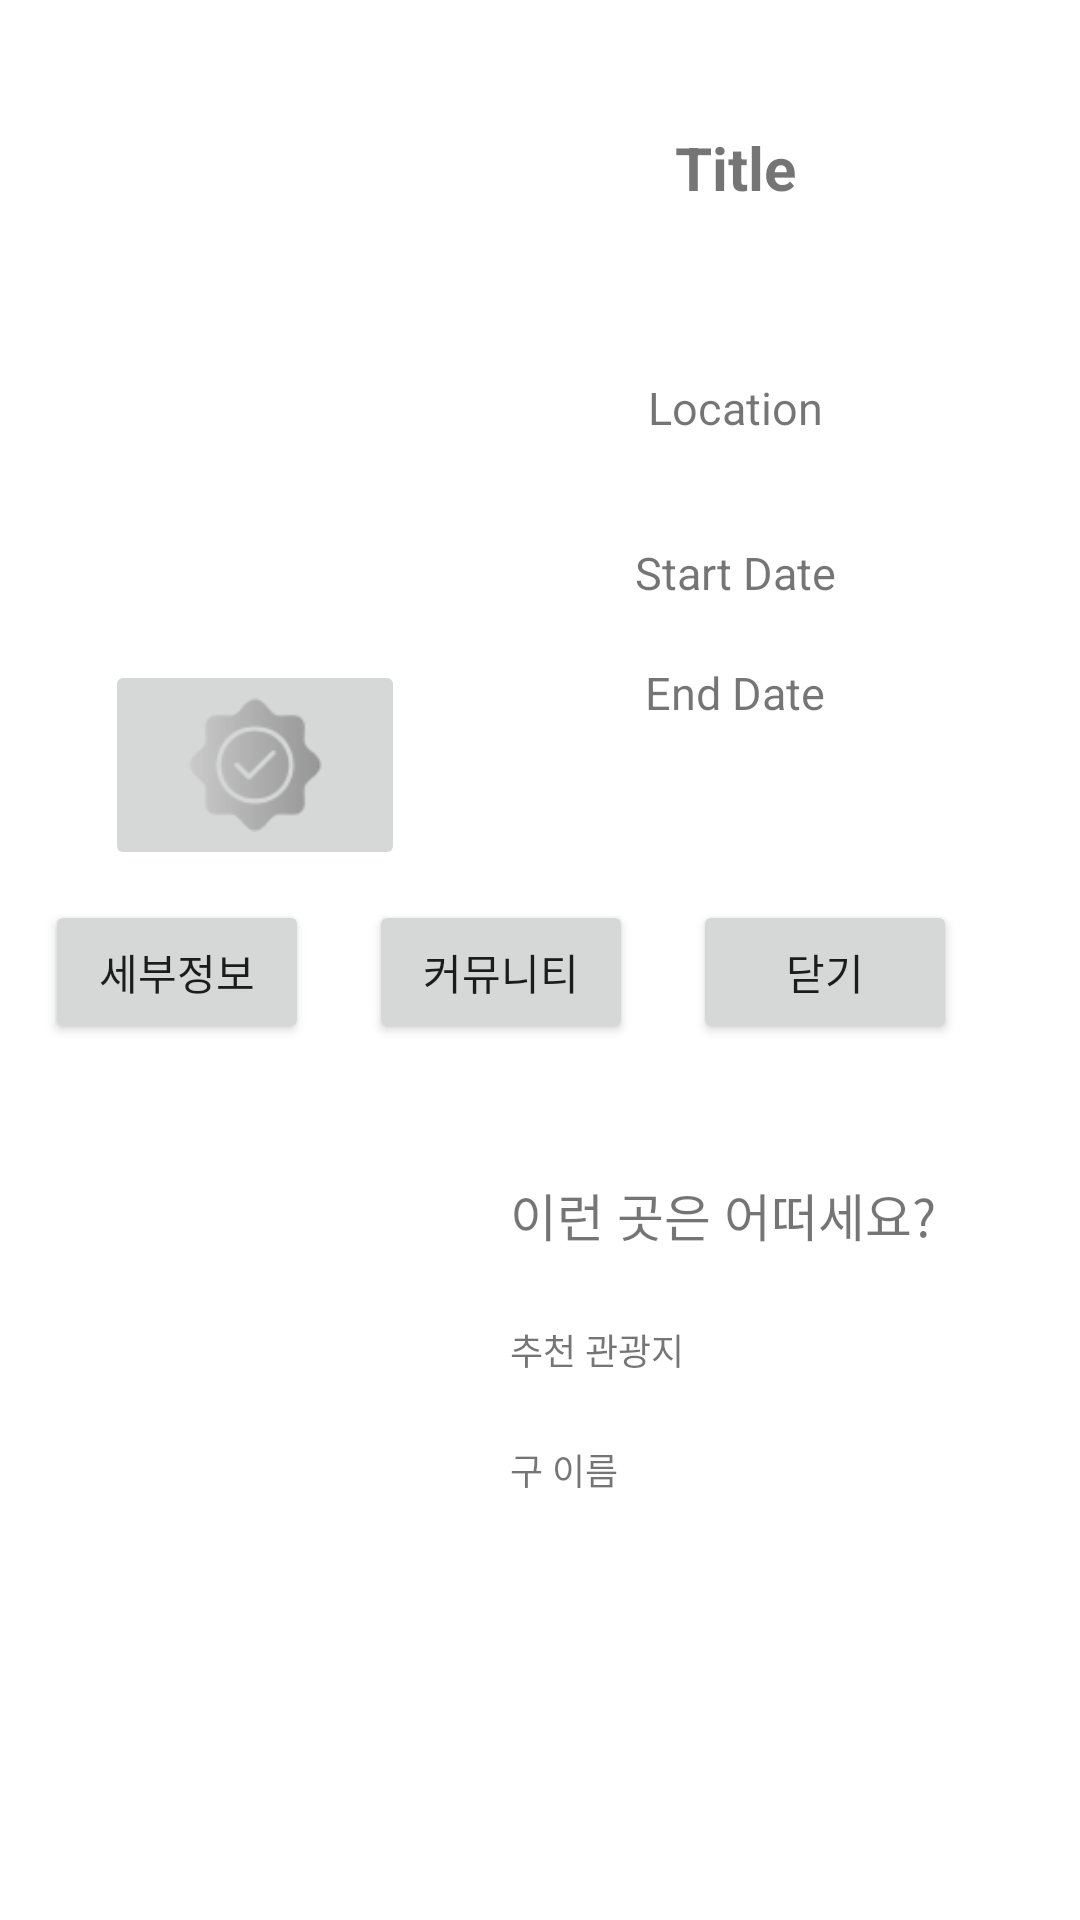

Named icons in this screenshot (1080 x 1920) and their centers, (x=x, y=y):
stamp no: (x=255, y=765)
